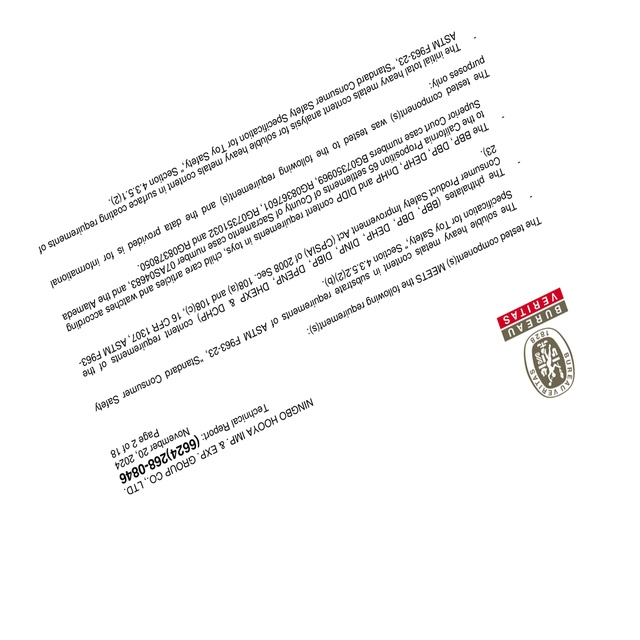bureau_veritas: (495, 283, 582, 403)
